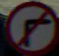Don't turn right: (7, 8, 54, 53)
